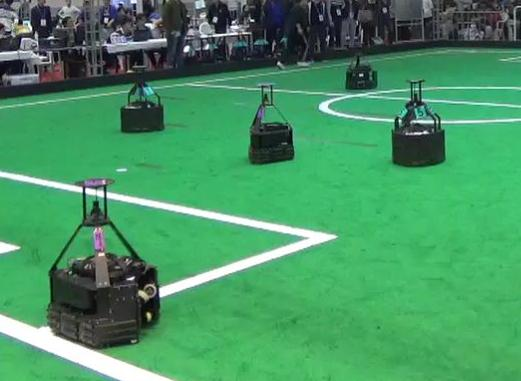robot: (40, 175, 166, 349), (387, 75, 449, 166), (242, 79, 300, 164), (115, 61, 168, 136), (341, 39, 383, 94)
